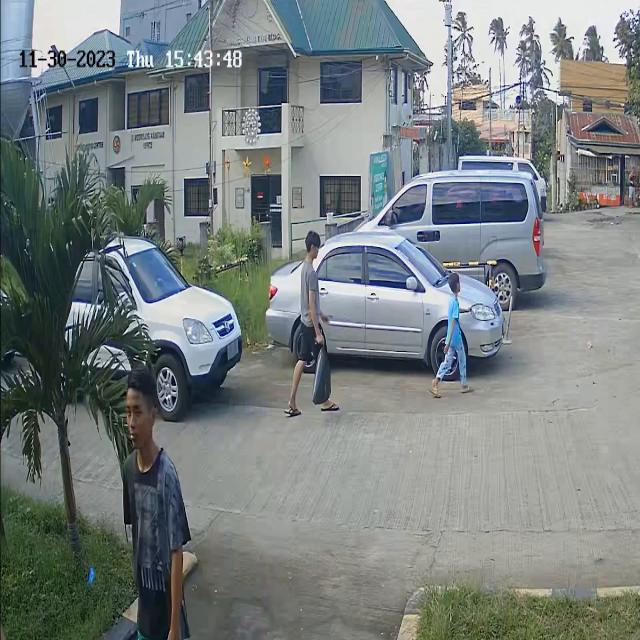person: (114, 363, 182, 600), (288, 223, 333, 353), (438, 269, 469, 358), (306, 342, 340, 406)
